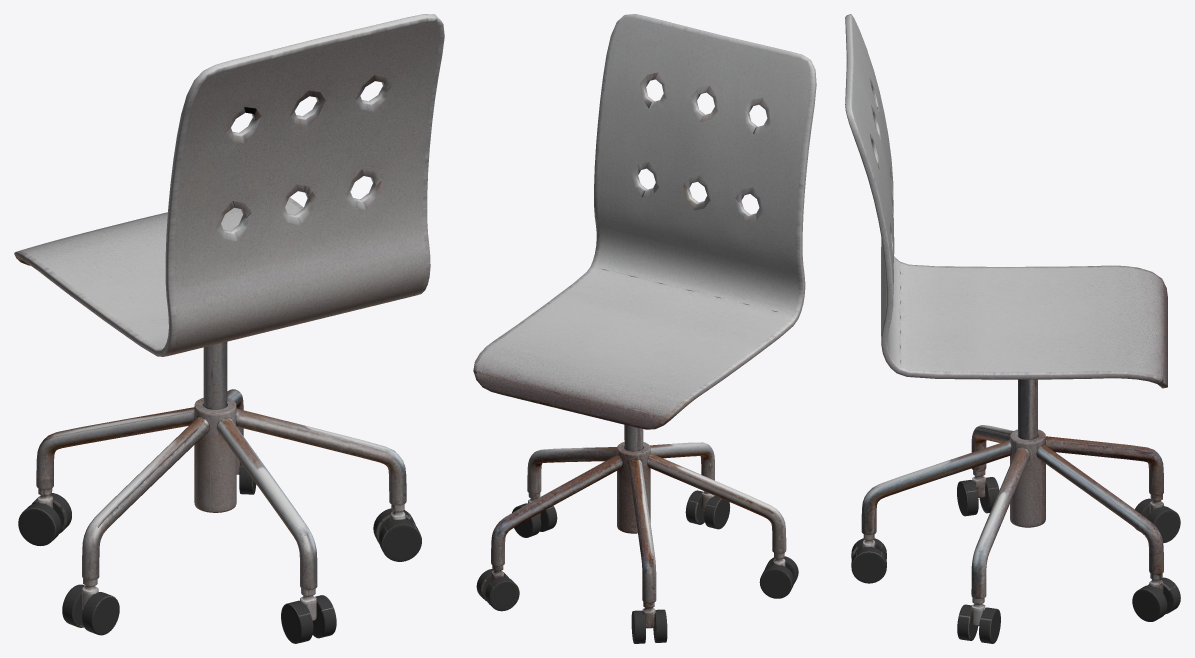
The model's file is 6 Hole chair.fbx.
3 views of the same model, side by side, from view 1: azimuth 30°, elevation 25°; view 2: azimuth 150°, elevation 25°; view 3: azimuth 270°, elevation 25° (orthographic). The views are drawn at different scales.
Parts seen in each view (by area): view 1: wheel_chair.032; view 2: wheel_chair.032; view 3: wheel_chair.032.
Part boxes in pixels (x1=…): wheel_chair.032: x1=14, y1=14, x2=444, y2=643; wheel_chair.032: x1=473, y1=14, x2=816, y2=643; wheel_chair.032: x1=845, y1=14, x2=1180, y2=643.
Bounding box in the file's own units: 25.59 × 42.23 × 24.82.
